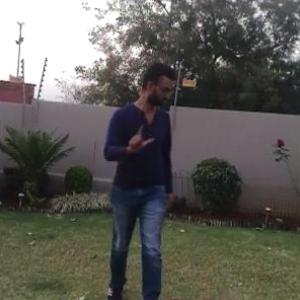land_hand: (120, 117, 155, 154)
